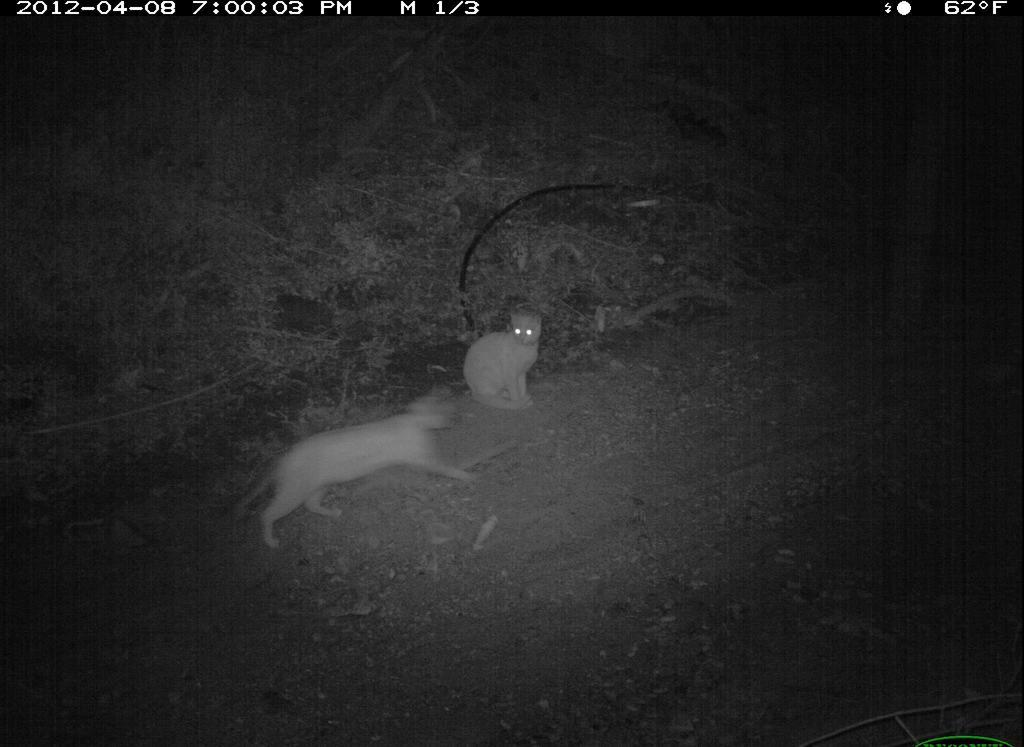cat: (258, 405, 486, 525), (457, 310, 569, 420)
